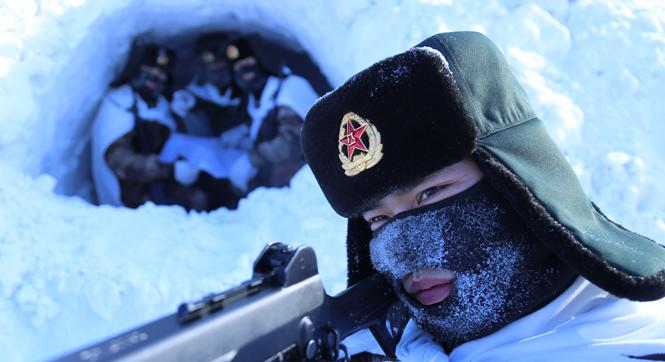WRONG: (363, 161, 520, 332)
